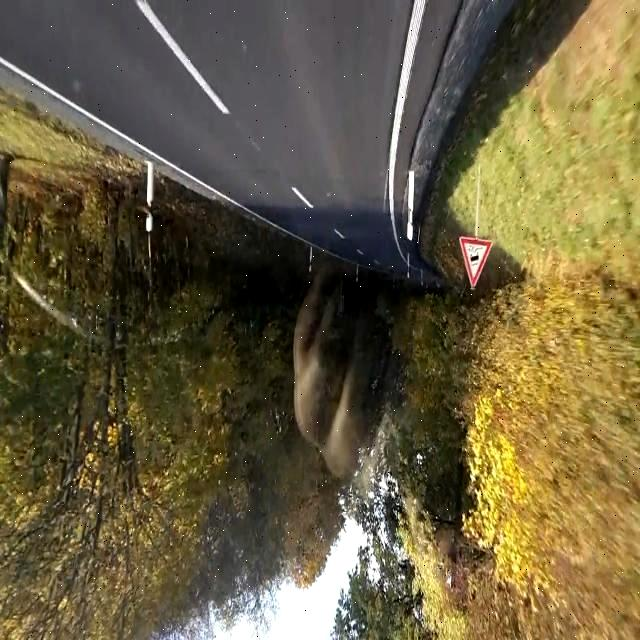lane: (1, 56, 314, 244), (135, 1, 229, 114), (389, 0, 426, 258)
road: (0, 1, 460, 273)
